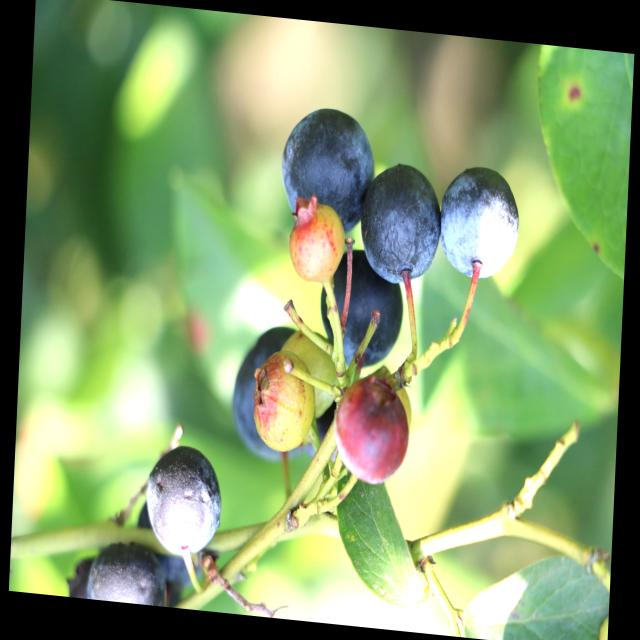blueberry: (277, 103, 377, 237), (230, 321, 318, 462), (316, 243, 407, 377), (360, 156, 445, 296), (144, 437, 228, 567), (435, 160, 523, 283), (72, 543, 178, 607)
blueberry-halfripe: (332, 374, 411, 487)
blueberry-unripe: (252, 354, 314, 451), (284, 196, 346, 285)
